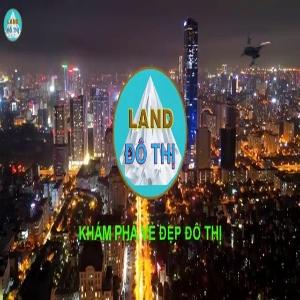drone: (236, 30, 282, 76)
